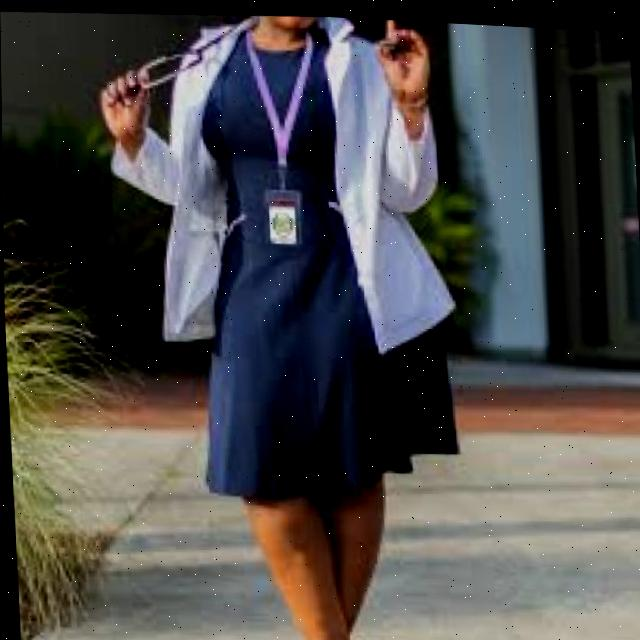id_card: (224, 13, 335, 248)
